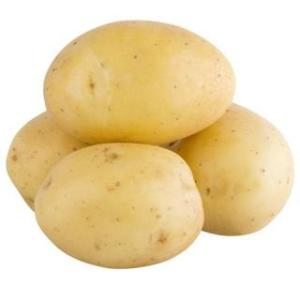potato: (43, 20, 235, 143), (34, 143, 204, 268), (176, 103, 294, 237), (6, 112, 92, 208)
